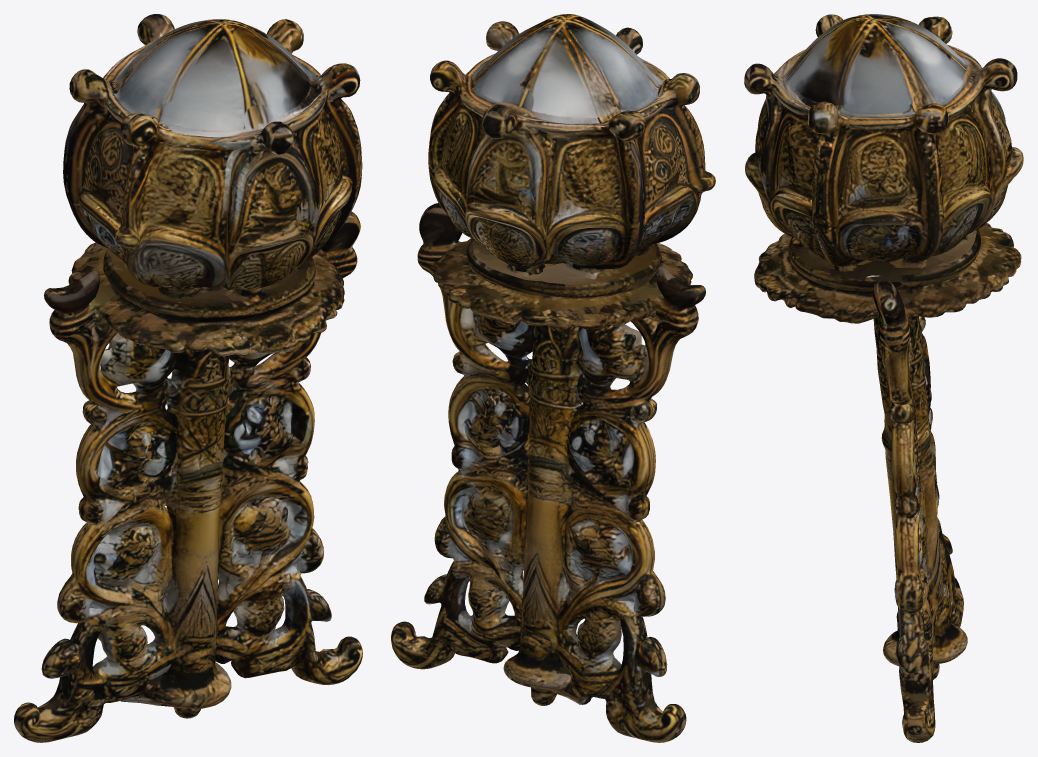
3 renders of one model, left to right at view 1: azimuth 30°, elevation 25°; view 2: azimuth 150°, elevation 25°; view 3: azimuth 270°, elevation 25°, orthographic. The views are drawn at different scales.
Parts seen in each view (by area): view 1: textured_mesh; view 2: textured_mesh; view 3: textured_mesh.
Boxes of the visible parts, bbox=[...] form: textured_mesh: bbox=[14, 14, 362, 742]; textured_mesh: bbox=[391, 14, 715, 742]; textured_mesh: bbox=[744, 14, 1023, 742].
Bounding box in the file's own units: 0.9607 × 2 × 0.7614.
Materials: 1 (1 with a texture image).
